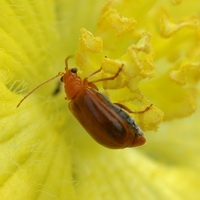insect: (17, 56, 145, 148)
